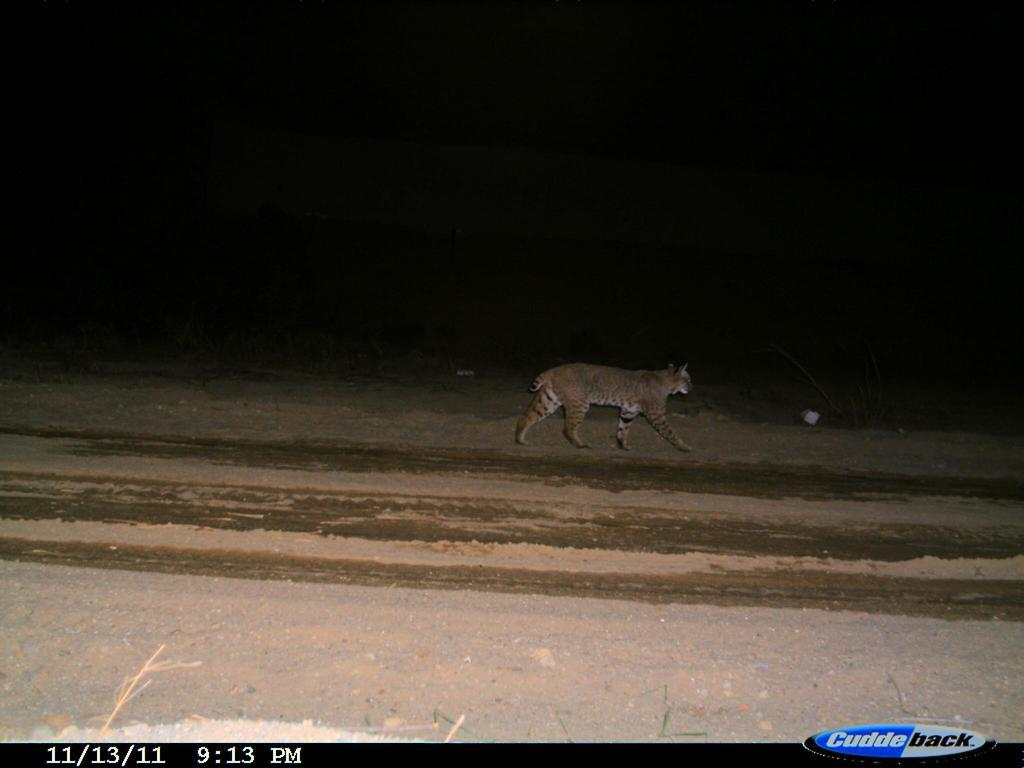bobcat: (505, 356, 706, 461)
